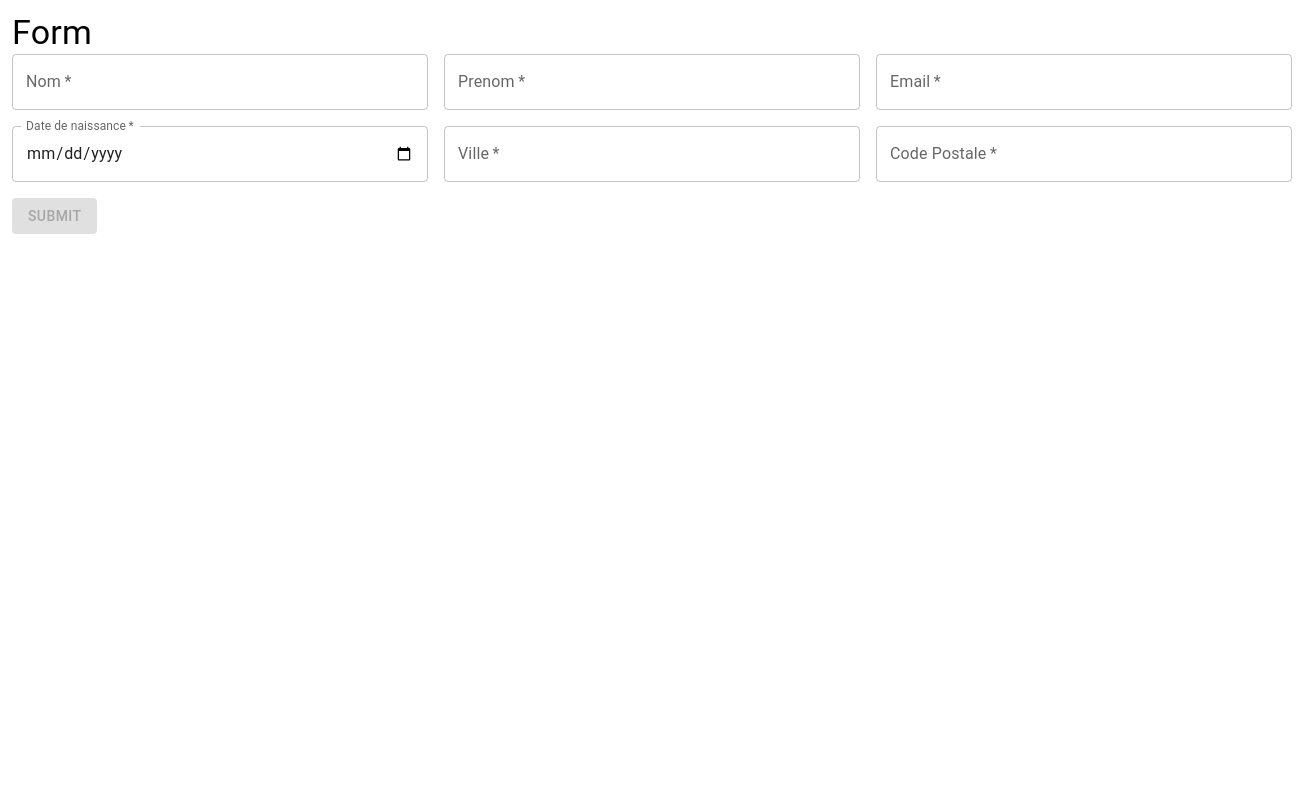
Form DOM Interactions › should show error messages in DOM when submitting invalid data
# Remplir avec des données invalides
Step 1. Type "123" into the field labelled "Nom *" → (220, 82), box [12,54,428,110]
# Remplir les autres champs pour activer le bouton submit
Step 2. Type "Jean" into the field labelled "Prenom *" → (652, 82), box [444,54,860,110]
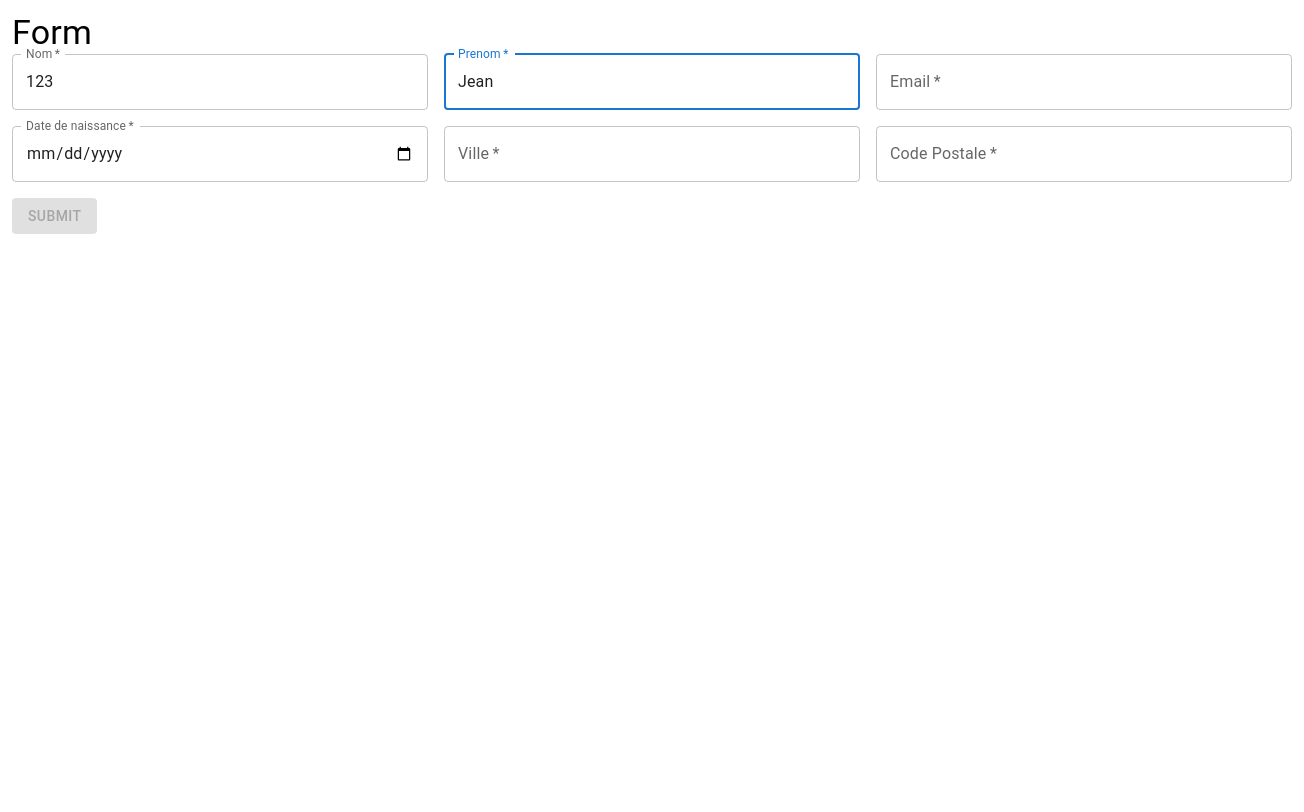
Step 3. Type "test@test.com" into the field labelled "Email *" → (1084, 82), box [876,54,1292,110]
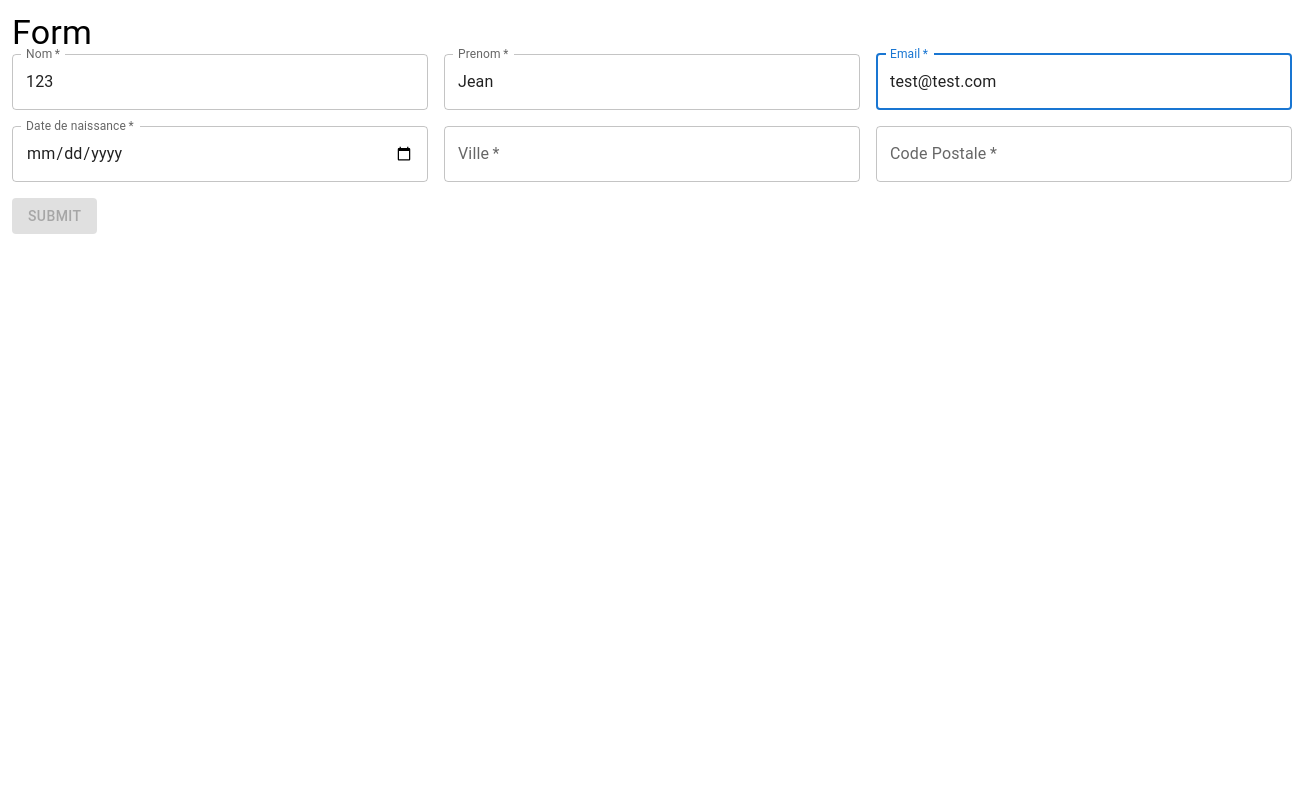
Step 4. Type "2000-01-01" into the date field labelled "Date de naissance *" → (220, 154), box [12,126,428,182]
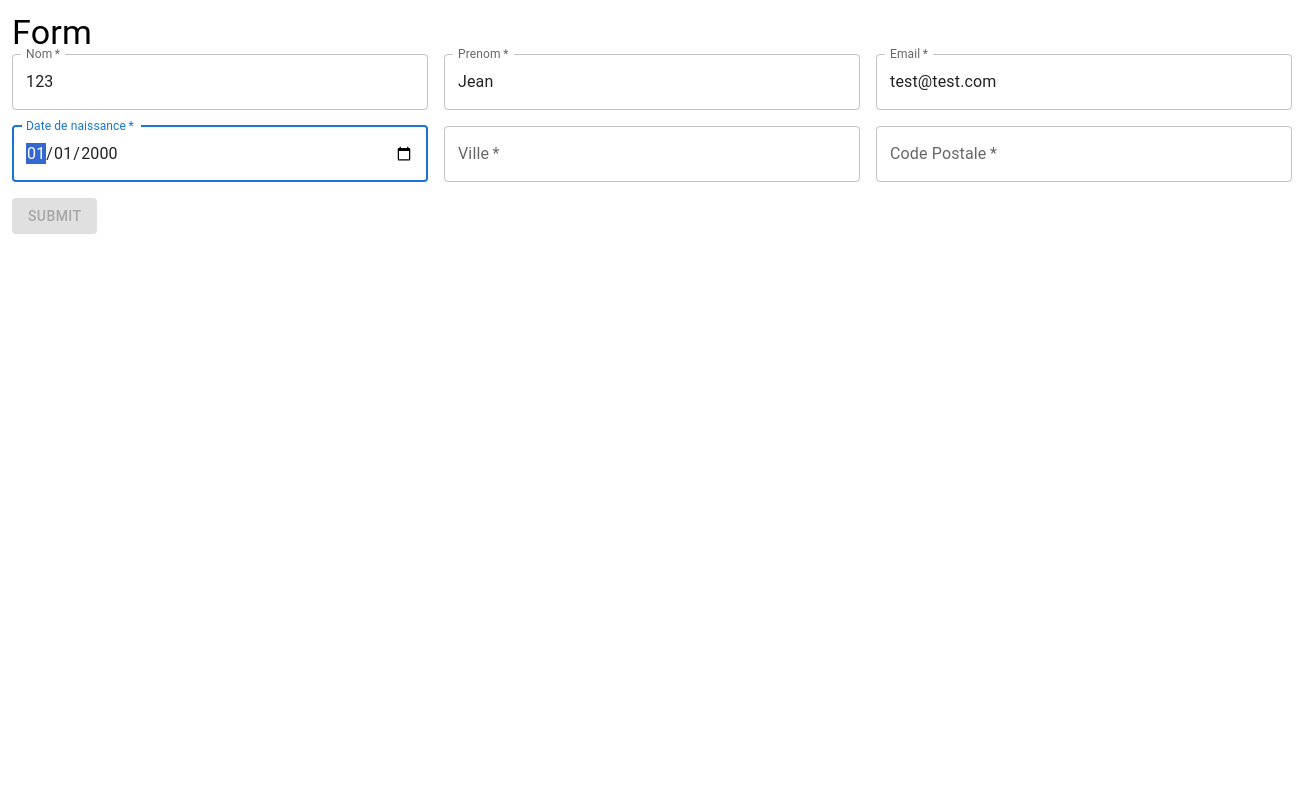
Step 5. Type "Paris" into the field labelled "Ville *" → (652, 154), box [444,126,860,182]
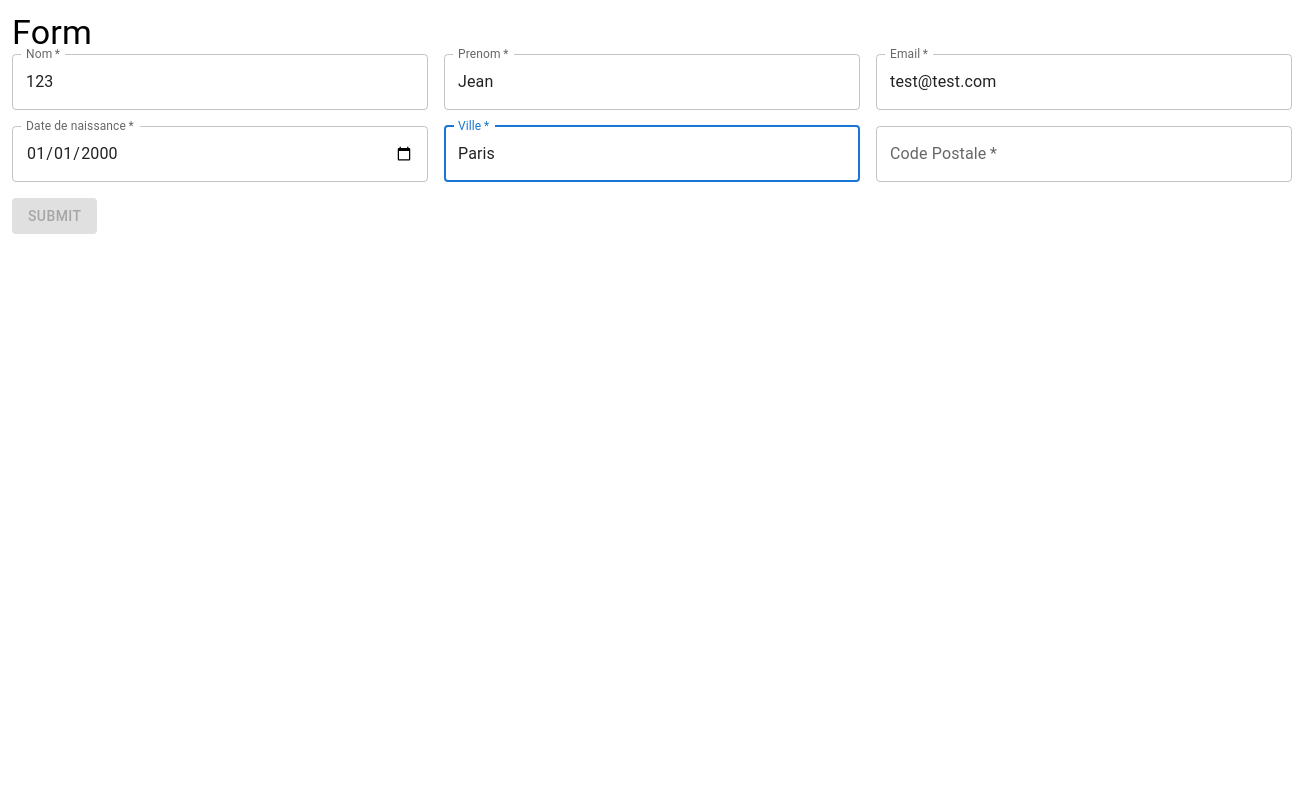
Step 6. Type "75001" into the field labelled "Code Postale *" → (1084, 154), box [876,126,1292,182]
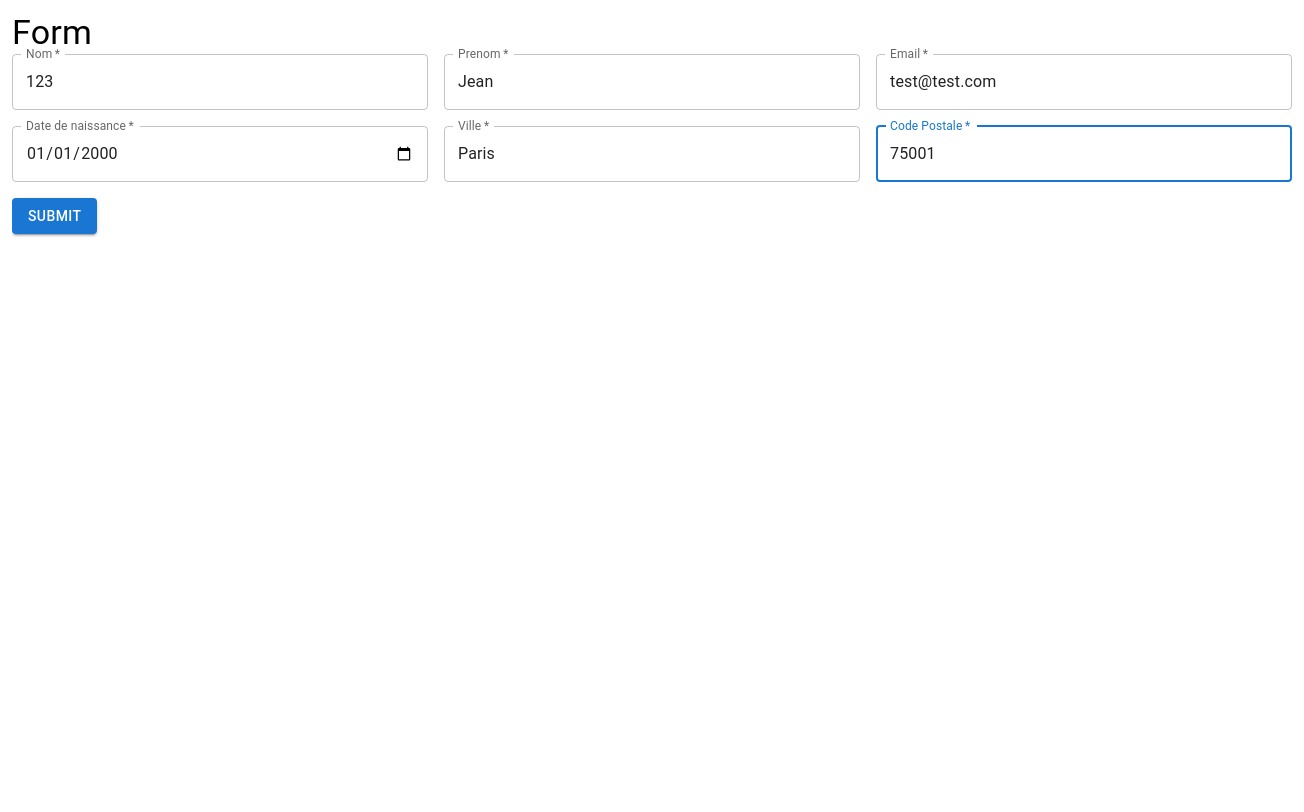
# Soumettre le formulaire
Step 7. Click the button "Submit" → (55, 216), box [12,198,97,234]
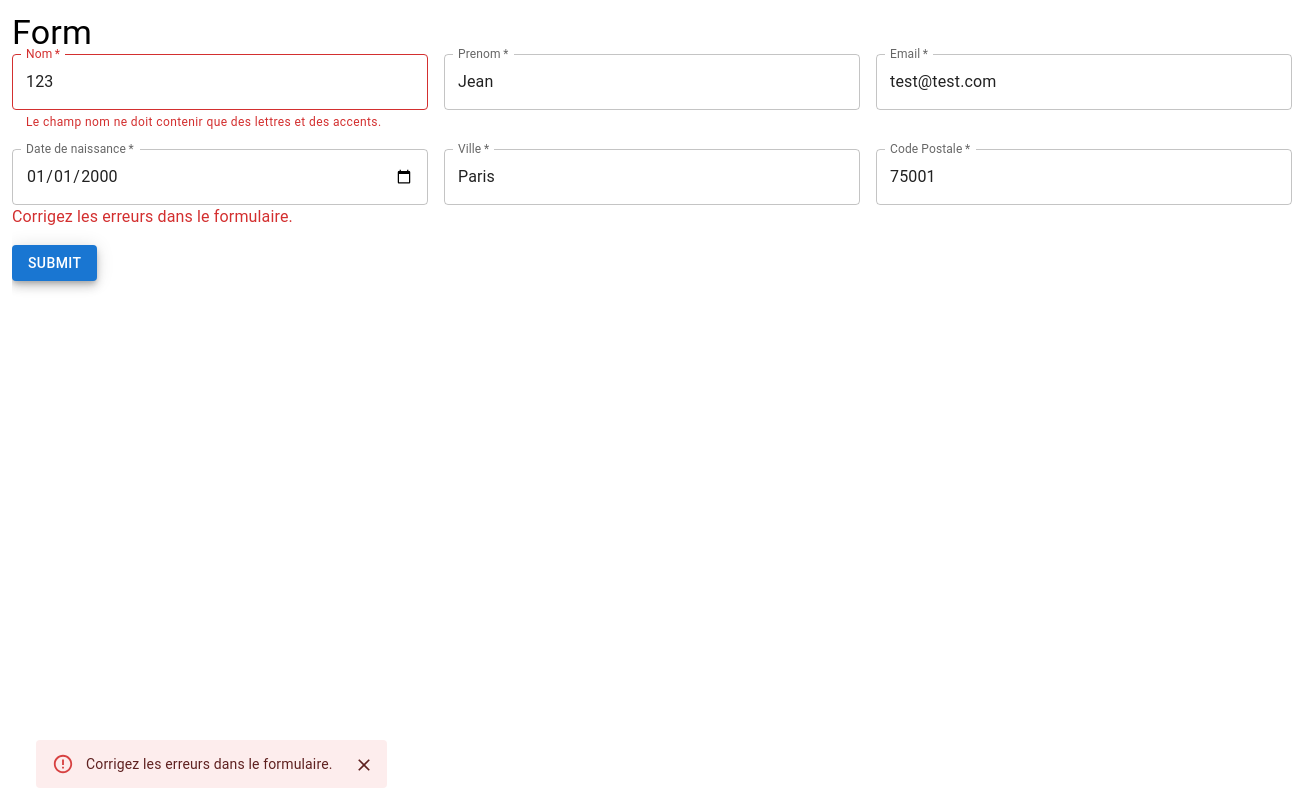
Expected: the text "Le champ nom ne doit contenir que des lettres" is shown, [26,115,382,129]
